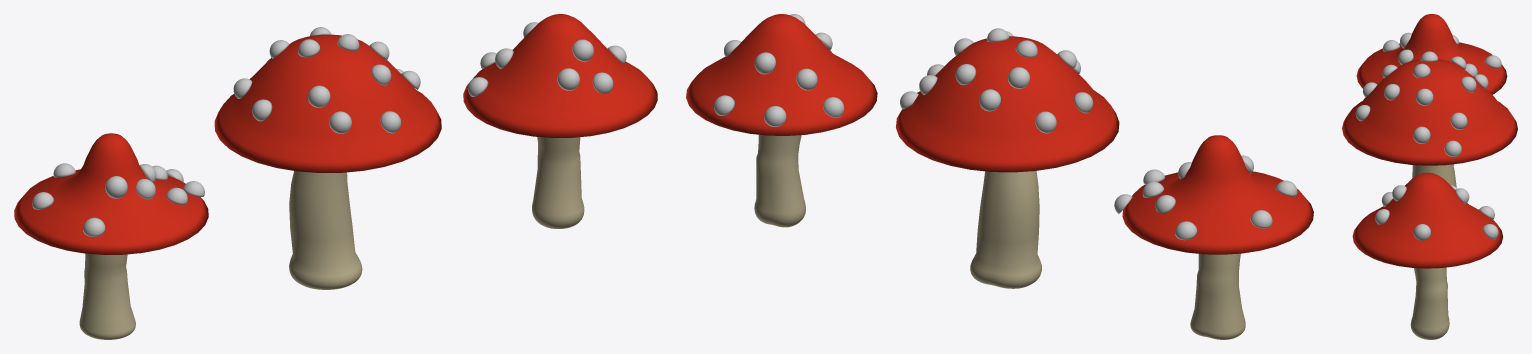
File: mushroomModel.glb
The picture shows the model from 3 angles, left to right: view 1: azimuth 30°, elevation 25°; view 2: azimuth 150°, elevation 25°; view 3: azimuth 270°, elevation 25°; orthographic projection. The views are drawn at different scales.
Visible parts, largest first — view 1: Hat 2, Hat 3, Hat 1, Mushroom 2, Mushroom 3, Mushroom 1; view 2: Hat 2, Hat 3, Hat 1, Mushroom 2, Mushroom 3, Mushroom 1; view 3: Hat 2, Hat 3, Hat 1, Mushroom 3, Mushroom 2.
Boxes of the visible parts, x1,y1,x2,y2 form: Hat 2: (214, 27, 441, 172); Hat 3: (463, 14, 657, 137); Hat 1: (14, 133, 208, 254); Mushroom 2: (289, 171, 362, 289); Mushroom 3: (532, 137, 584, 228); Mushroom 1: (79, 253, 135, 339); Hat 2: (896, 28, 1119, 172); Hat 3: (686, 14, 877, 135); Hat 1: (1114, 135, 1313, 254); Mushroom 2: (970, 171, 1041, 288); Mushroom 3: (754, 134, 805, 227); Mushroom 1: (1190, 253, 1245, 339); Hat 2: (1342, 51, 1517, 165); Hat 3: (1352, 172, 1502, 268); Hat 1: (1356, 14, 1507, 94); Mushroom 3: (1410, 267, 1449, 339); Mushroom 2: (1412, 164, 1456, 187).
Size of the model in its own units: 6.77 by 2.58 by 2.17.
